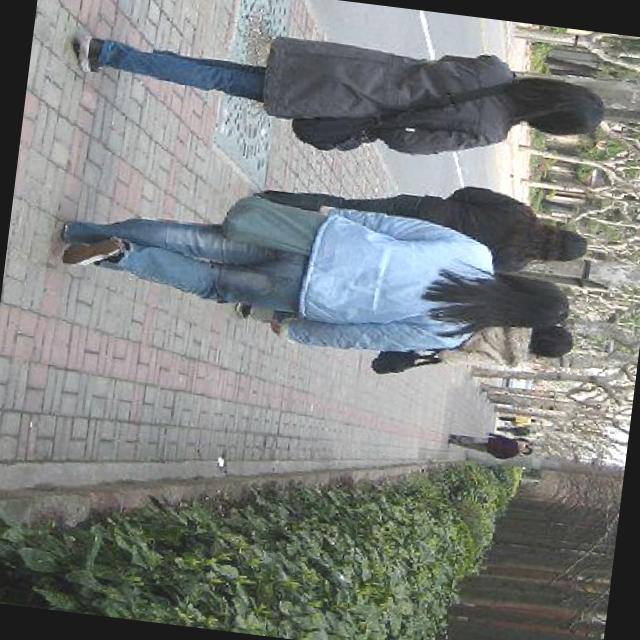Person: (67, 2, 614, 184), (44, 204, 576, 376), (233, 156, 599, 278), (445, 422, 536, 466)
